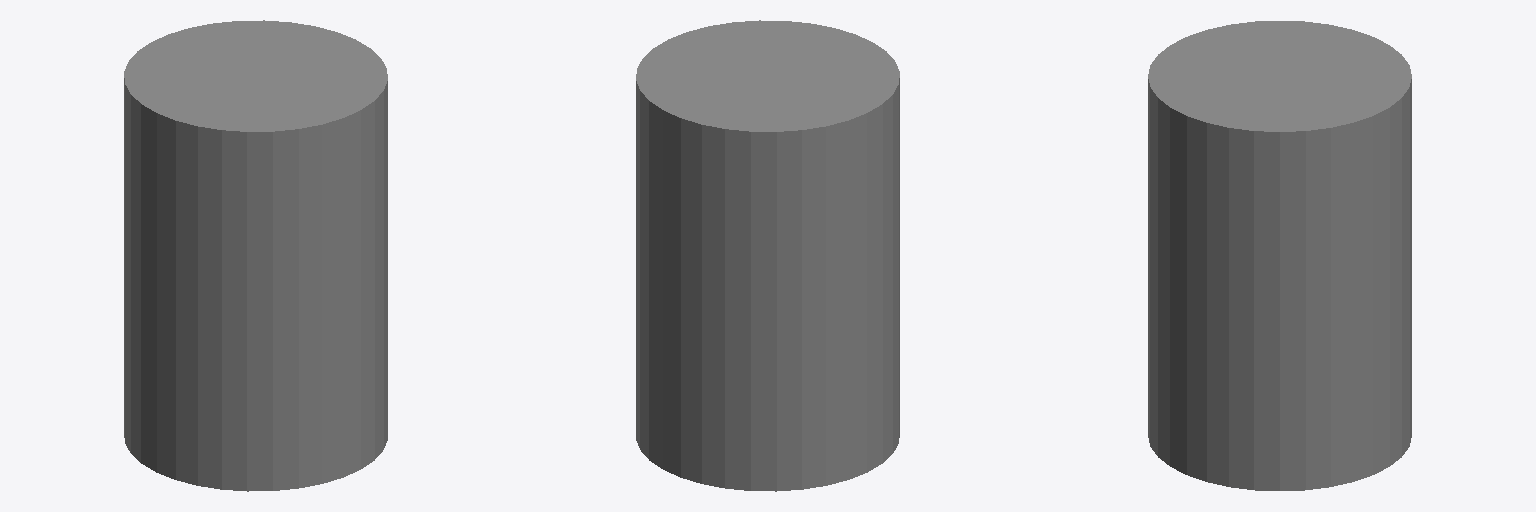
URDF robot description (my_first_robot):
<?xml version="1.0"?>
<!--Simple URDF model: A single base link represented as a cylinder.-->

<robot name="my_first_robot">

  <!-- Base link of the robot -->
  <link name="base_link">
    
    <!-- Visual representation of the link -->
    <visual>
      <geometry>
      <!--        height = 0.6m, radius = 0.2m -->
        <cylinder length="0.6" radius="0.2"/>
      </geometry>
      <!--        Add color and material for better visualization -->
      <material name="gray">
        <color rgba="0.6 0.6 0.6 1.0"/>
      </material>
    </visual>

    <!--          Add collision and inertia for physics simulation -->
    <collision>
      <geometry>
        <cylinder length="0.6" radius="0.2"/>
      </geometry>
    </collision>

    <inertial>
      <mass value="2.0"/>
      <origin xyz="0 0 0"/>
      <inertia ixx="0.1" ixy="0.0" ixz="0.0"
               iyy="0.1" iyz="0.0"
               izz="0.1"/>
    </inertial>

  </link>

</robot>

--- What the picture shows (computed from the rendered views, not written in the file) ---
The picture shows the robot from 3 angles, left to right: view 1: azimuth 30°, elevation 25°; view 2: azimuth 150°, elevation 25°; view 3: azimuth 270°, elevation 25°; orthographic projection.
Robot: my_first_robot — 1 links, 0 joints (none); root link base_link; default pose: every joint at zero.
Links seen in each view (by area): view 1: base_link; view 2: base_link; view 3: base_link.
Link boxes in pixels (box(x1,y1,x2,y2)): base_link: box(124, 20, 387, 491); base_link: box(636, 20, 899, 491); base_link: box(1148, 21, 1411, 490).
Bounding box of the posed robot: 0.4 × 0.4 × 0.6 m (x, y, z).
Geometry: primitives only (box / cylinder / sphere), no mesh files.
